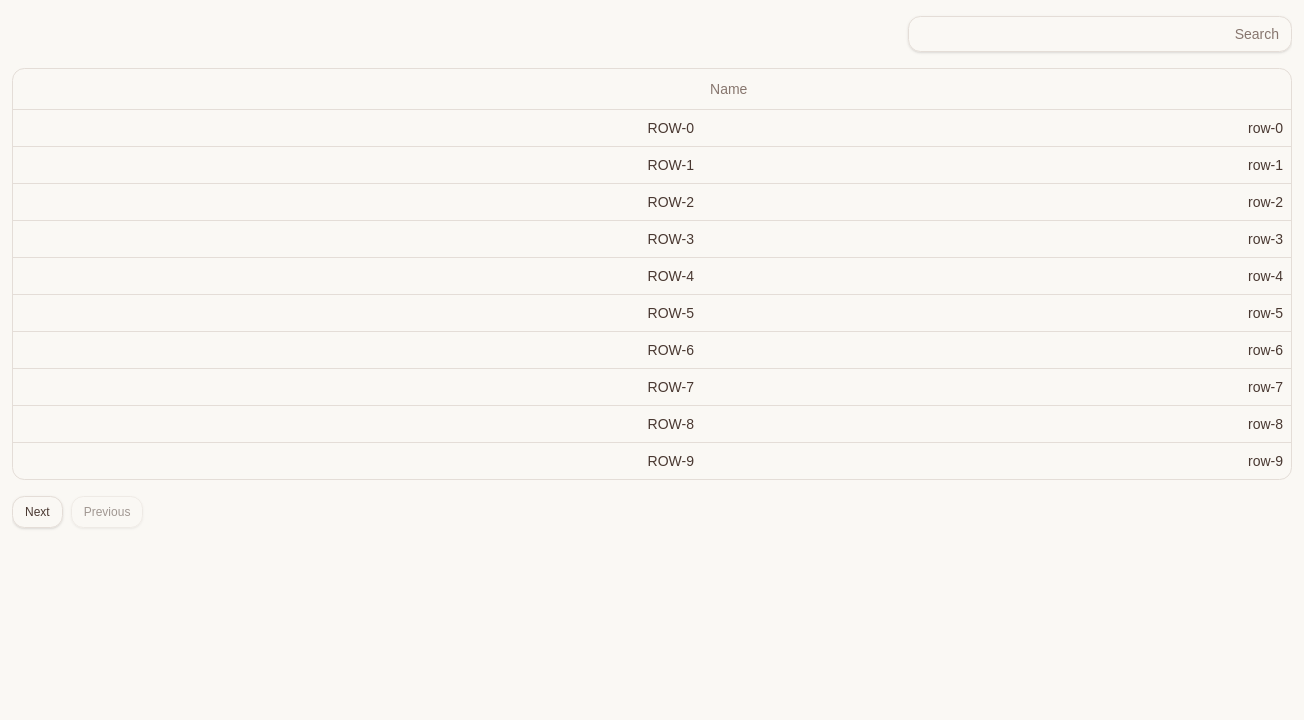
data tables › paginates with previous and next
Expected: the button "Previous" is disabled, [71,496,143,528]
Step 1. Click the button "Next" → x=37, y=512, box [12,496,63,528]
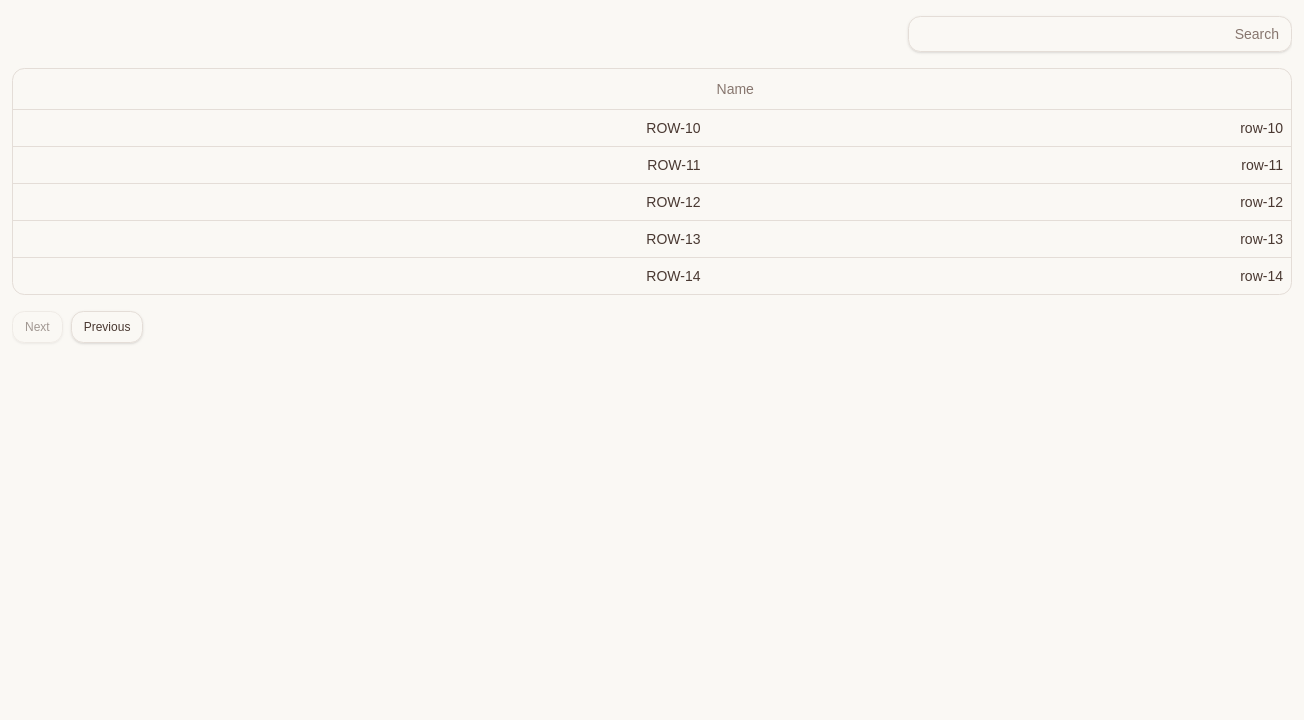
Now the button "Previous" is enabled, box [71,310,143,342]
